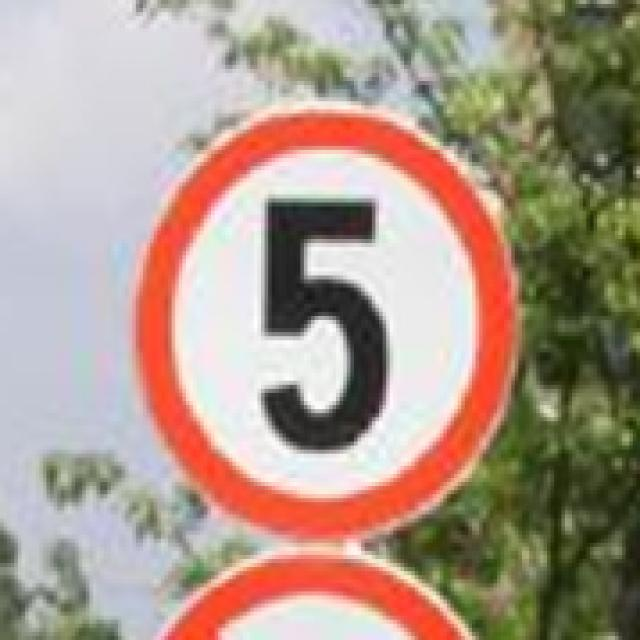Speed: (106, 90, 549, 549)
